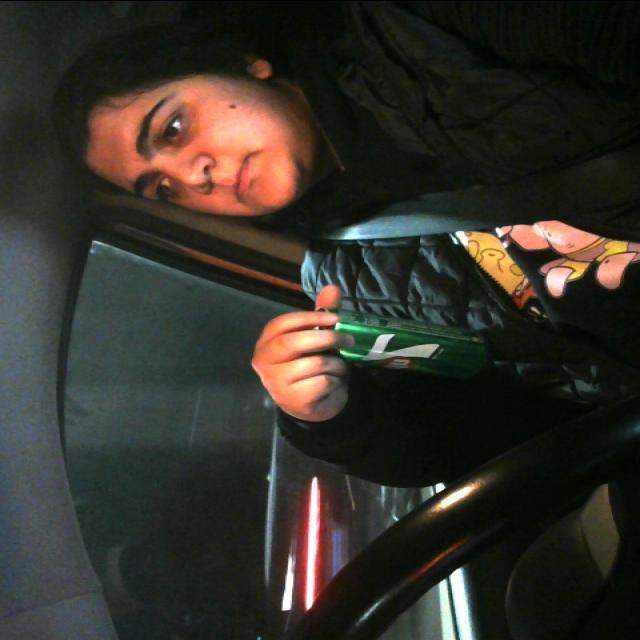drinking: (290, 317, 500, 377)
